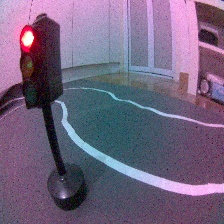red: (18, 13, 89, 212)
